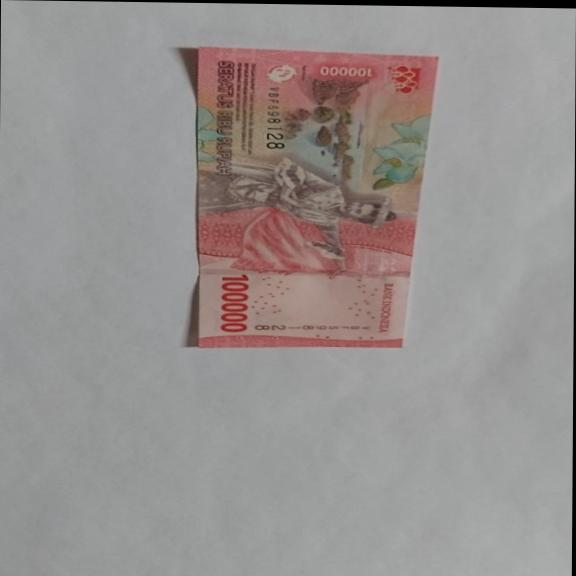Kertas: (188, 46, 441, 352), (218, 273, 252, 334)
